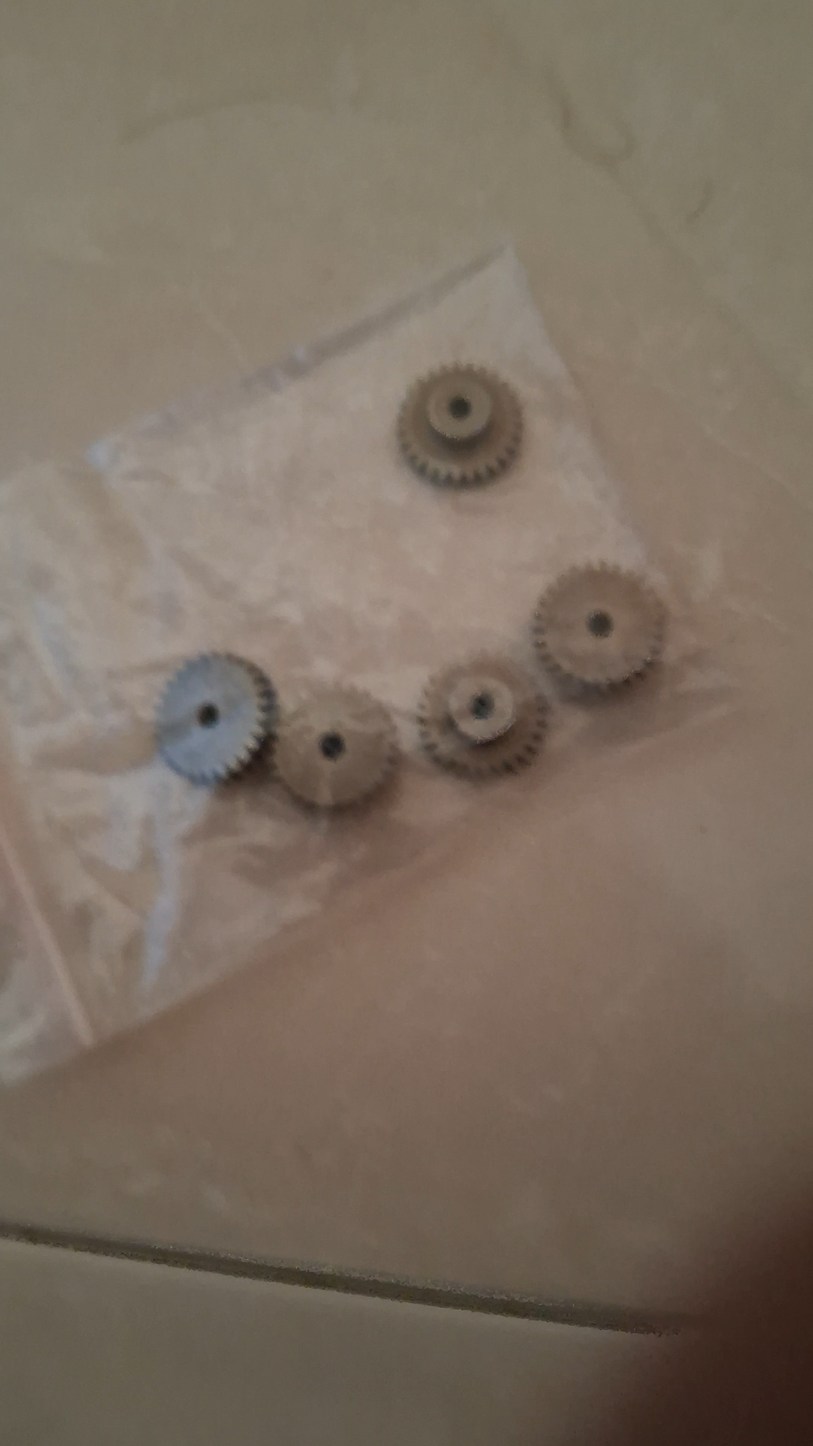spur gear: (533, 564, 665, 689), (418, 654, 548, 776), (155, 653, 276, 784), (397, 365, 522, 487), (274, 686, 397, 808)
